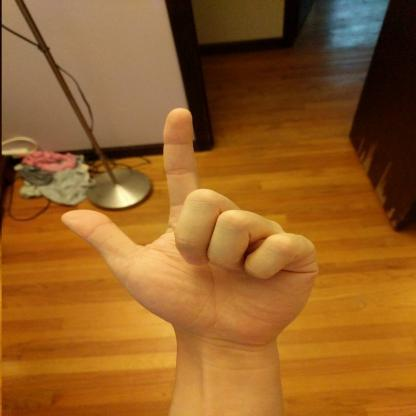L: (55, 104, 324, 348)
